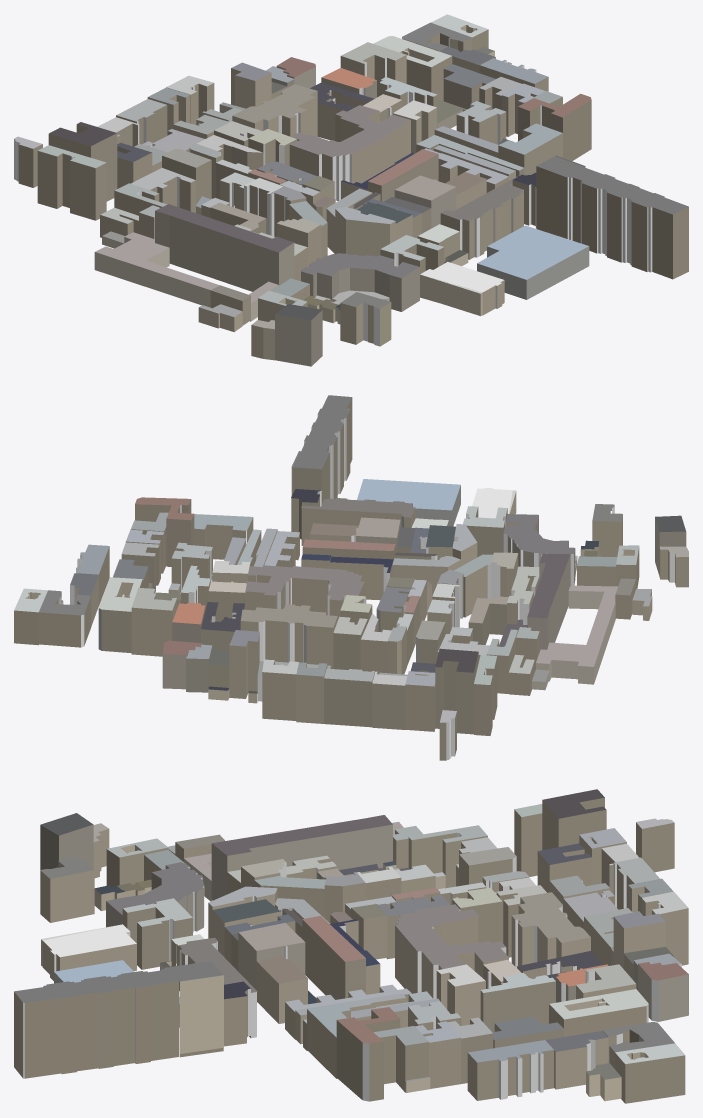
3 renders of one model, top to bottom at view 1: azimuth 30°, elevation 25°; view 2: azimuth 150°, elevation 25°; view 3: azimuth 270°, elevation 25°, orthographic. The views are drawn at different scales.
Visible parts, largest first — view 1: tuile; view 2: tuile; view 3: tuile.
Part boxes in pixels (<box>): tuile: <box>14,14,688,366</box>; tuile: <box>14,395,688,760</box>; tuile: <box>14,789,688,1103</box>.
Size of the model in its own units: 261 by 39.25 by 266.
